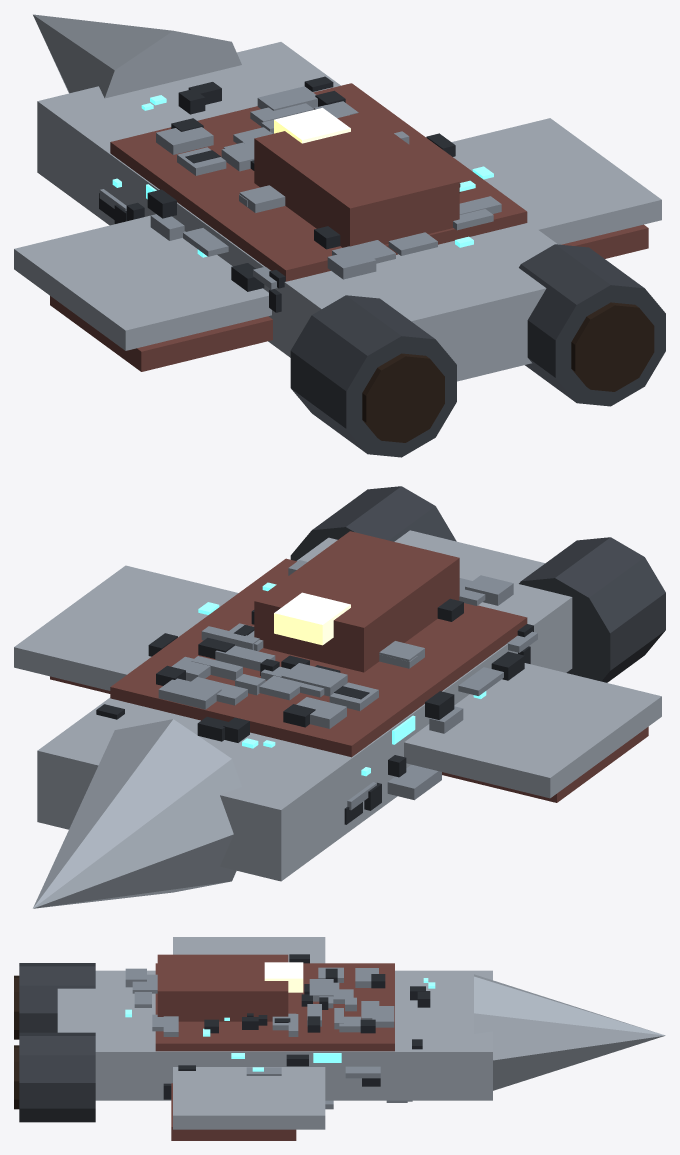
The model's file is troyden_corvette.glb.
3 renders of one model, top to bottom at view 1: azimuth 30°, elevation 25°; view 2: azimuth 150°, elevation 25°; view 3: azimuth 270°, elevation 25°, orthographic. The views are drawn at different scales.
Visible parts, largest first — view 1: hull, engines; view 2: hull, engines; view 3: hull, engines.
Part boxes in pixels (box(x1,y1,x2,y2)): hull: box(14, 14, 661, 381); engines: box(290, 244, 665, 457); hull: box(14, 530, 661, 908); engines: box(290, 486, 665, 682); hull: box(57, 937, 665, 1140); engines: box(14, 963, 95, 1122).
Bounding box in the file's own units: 27.23 × 8.83 × 41.99.
